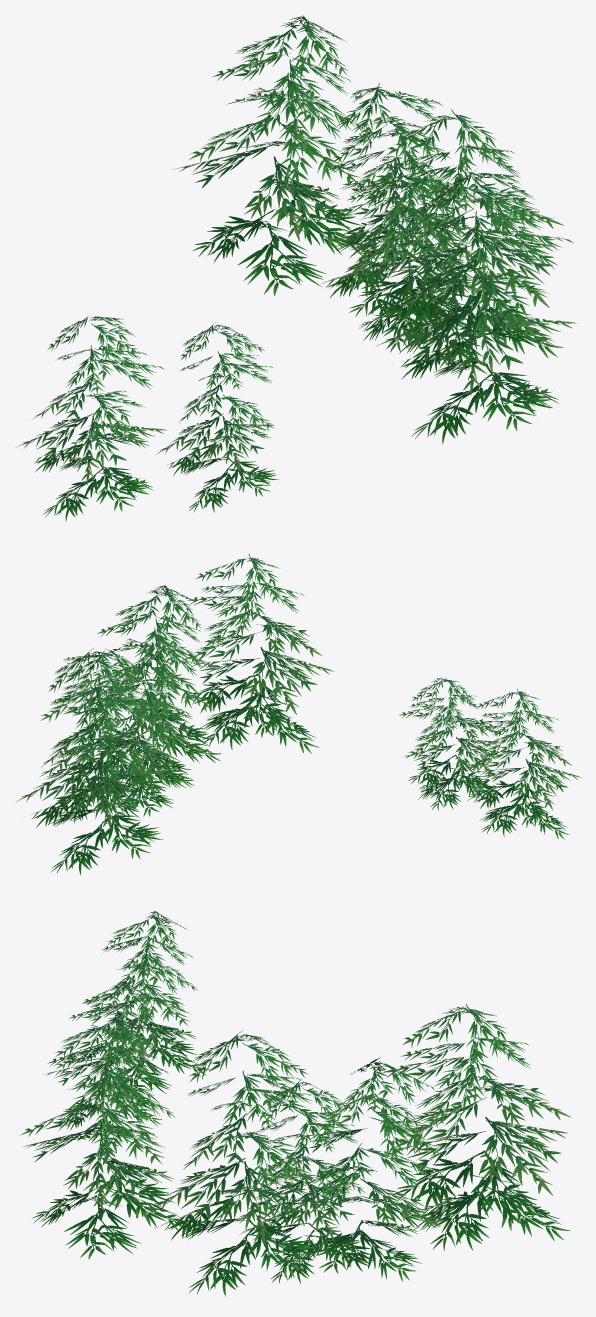
Rendered from Area_03_4.fbx.
The picture shows the model from 3 angles, top to bottom: view 1: azimuth 30°, elevation 25°; view 2: azimuth 150°, elevation 25°; view 3: azimuth 270°, elevation 25°; orthographic projection. The views are drawn at different scales.
Parts seen in each view (by area): view 1: Area_03_4; view 2: Area_03_4; view 3: Area_03_4.
Part boxes in pixels (x1=…): Area_03_4: x1=16, y1=15, x2=576, y2=521; Area_03_4: x1=16, y1=553, x2=581, y2=874; Area_03_4: x1=20, y1=911, x2=570, y2=1296.
Bounding box in the file's own units: 4805 × 2110 × 4306.
